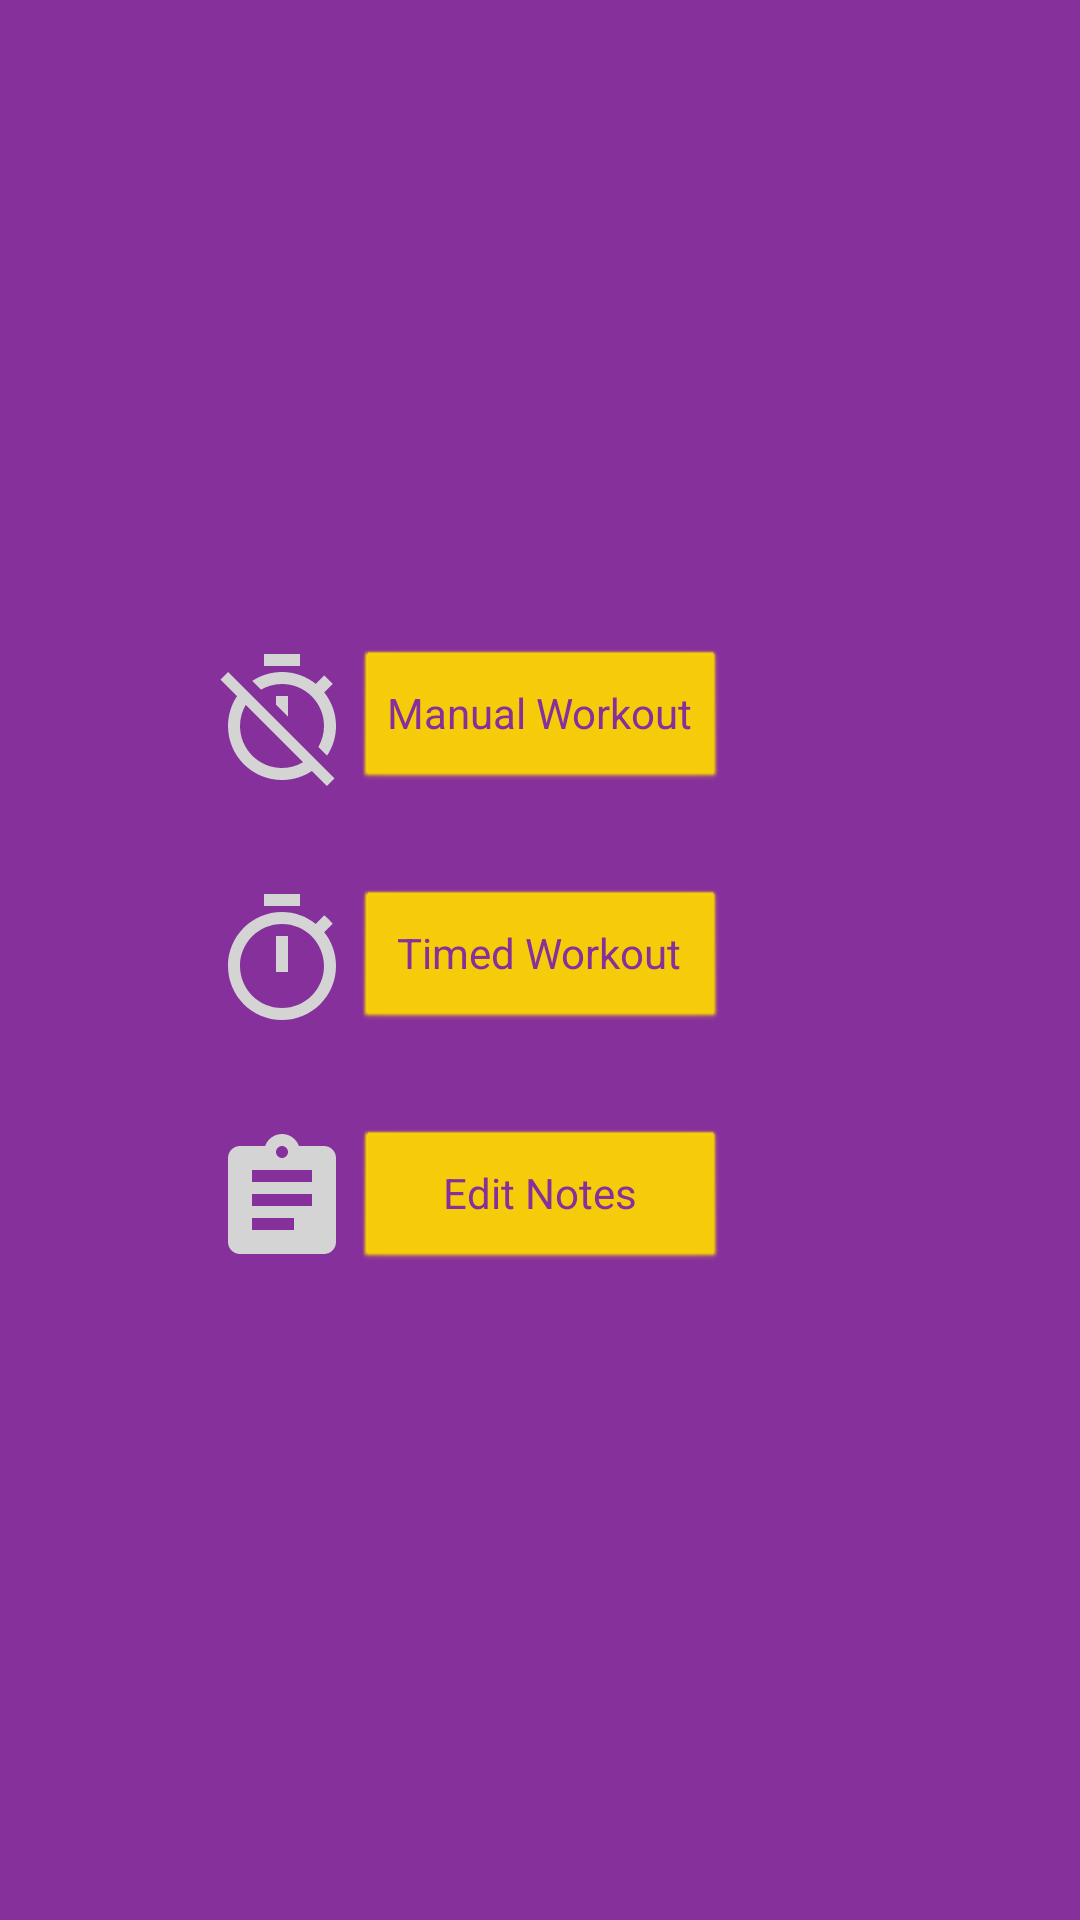

Locate icon controls on the screen. Image size 1080w x 1920h, boxes as (x1, y1, x2, y2).
assignment: (228, 1134, 336, 1254)
timer: (228, 894, 336, 1020)
timer off: (220, 654, 336, 786)
